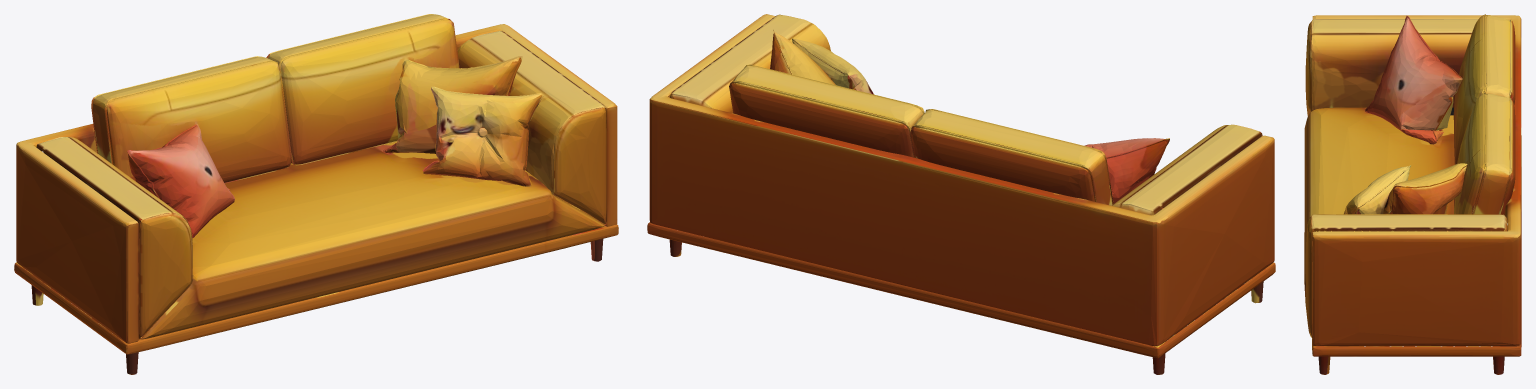
The model's file is edited_mesh.glb.
The picture shows the model from 3 angles, left to right: view 1: azimuth 30°, elevation 25°; view 2: azimuth 150°, elevation 25°; view 3: azimuth 270°, elevation 25°; orthographic projection. The views are drawn at different scales.
Visible parts, largest first — view 1: solid_001_wire; view 2: solid_001_wire; view 3: solid_001_wire.
Part boxes in pixels (bbox=[...]): solid_001_wire: bbox=[14, 14, 618, 374]; solid_001_wire: bbox=[647, 14, 1275, 374]; solid_001_wire: bbox=[1304, 14, 1521, 374].
Bounding box in the file's own units: 2 × 0.7464 × 0.8192.
1 material, 1 textured.
